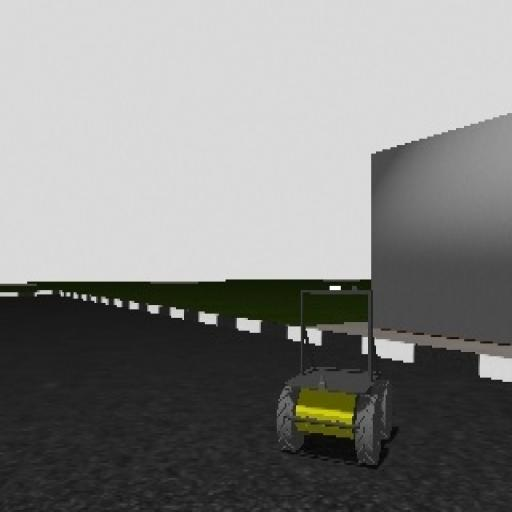huskya200: (260, 279, 402, 477)
